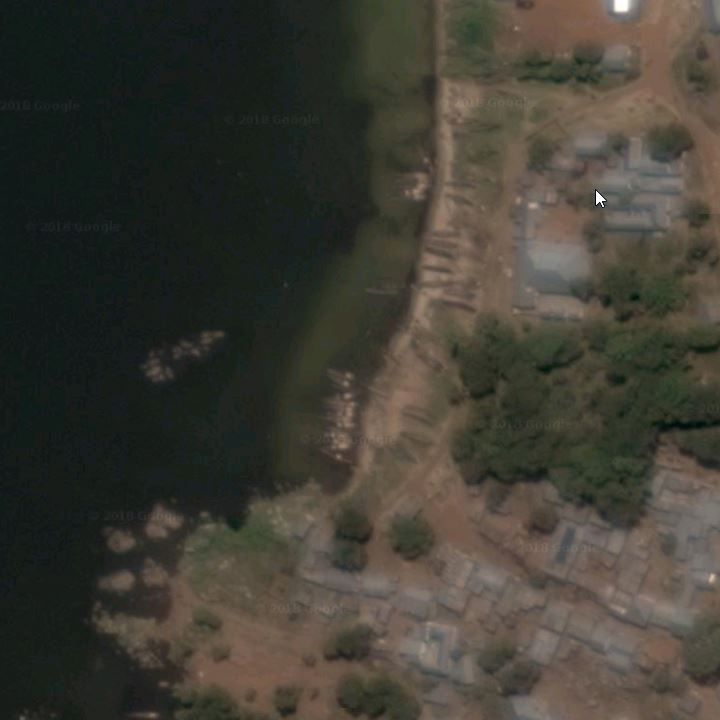boat: (434, 296, 483, 315), (408, 275, 461, 292), (399, 405, 437, 427), (438, 287, 482, 305), (441, 191, 483, 209), (320, 448, 356, 468), (437, 175, 482, 191), (360, 381, 394, 400), (400, 428, 436, 445), (425, 236, 461, 253), (426, 226, 461, 243), (420, 245, 458, 260), (419, 261, 457, 276), (324, 403, 358, 416), (325, 367, 358, 380), (325, 419, 362, 429), (361, 288, 401, 297), (322, 401, 362, 409), (325, 409, 360, 418), (325, 390, 355, 400), (325, 376, 352, 387), (408, 171, 437, 181), (400, 187, 428, 197), (393, 195, 430, 202), (320, 445, 355, 451), (407, 181, 432, 188)
